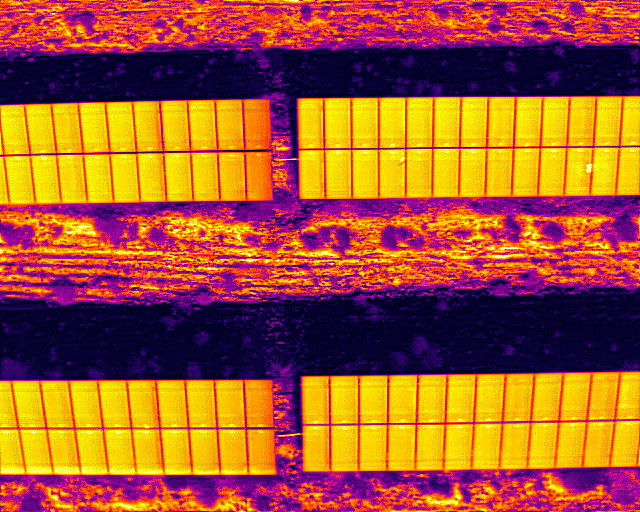photovoltaic_panels: (296, 95, 638, 200), (300, 370, 638, 473), (1, 97, 274, 206), (0, 379, 276, 476)
single_spot: (564, 146, 593, 197)
